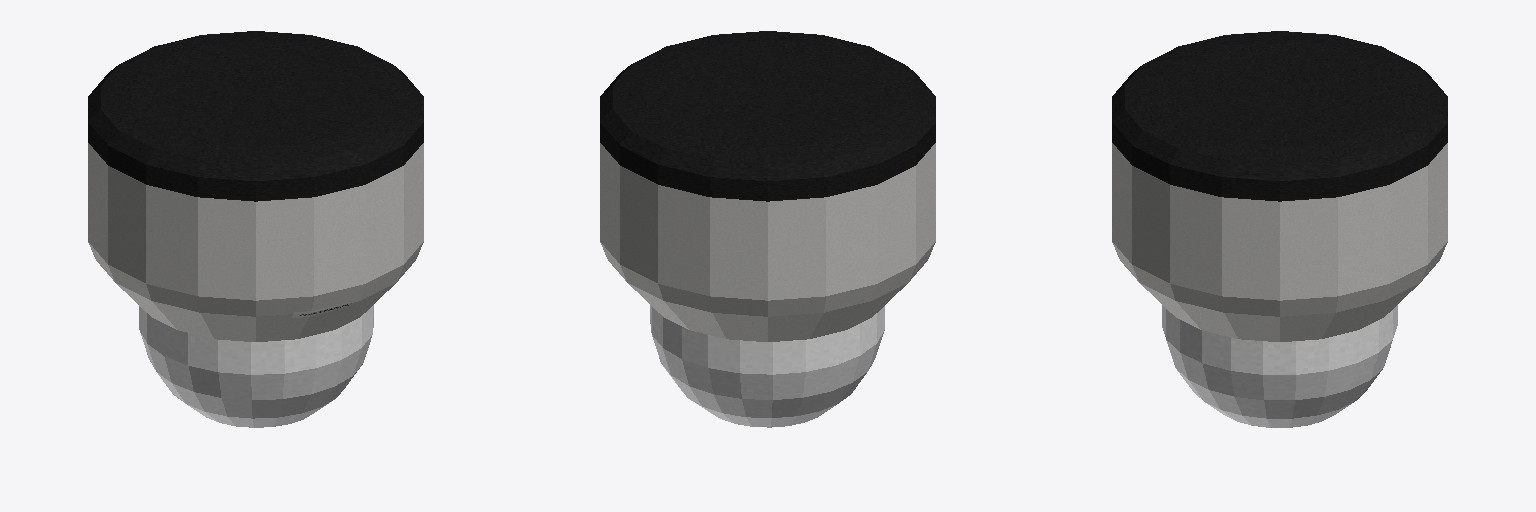
3 views of the same model, side by side, from view 1: azimuth 30°, elevation 25°; view 2: azimuth 150°, elevation 25°; view 3: azimuth 270°, elevation 25° (orthographic).
Visible parts, largest first — view 1: camera_003; view 2: camera_003; view 3: camera_003.
Boxes of the visible parts, x1,y1,x2,y2 form: camera_003: [88, 31, 423, 427]; camera_003: [600, 31, 935, 427]; camera_003: [1112, 31, 1447, 427].
Size of the model in its own units: 20 by 20.93 by 19.7.
4 materials, 4 textured.